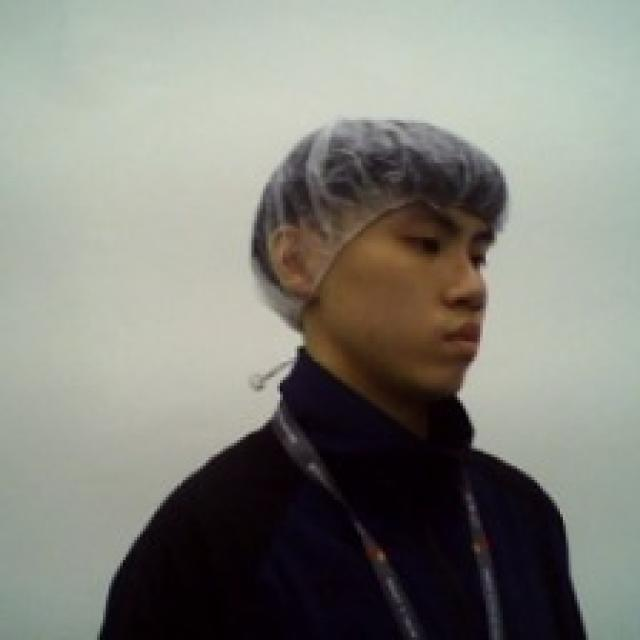gloves: (244, 90, 516, 332)
no_hairnet: (271, 218, 504, 398)
